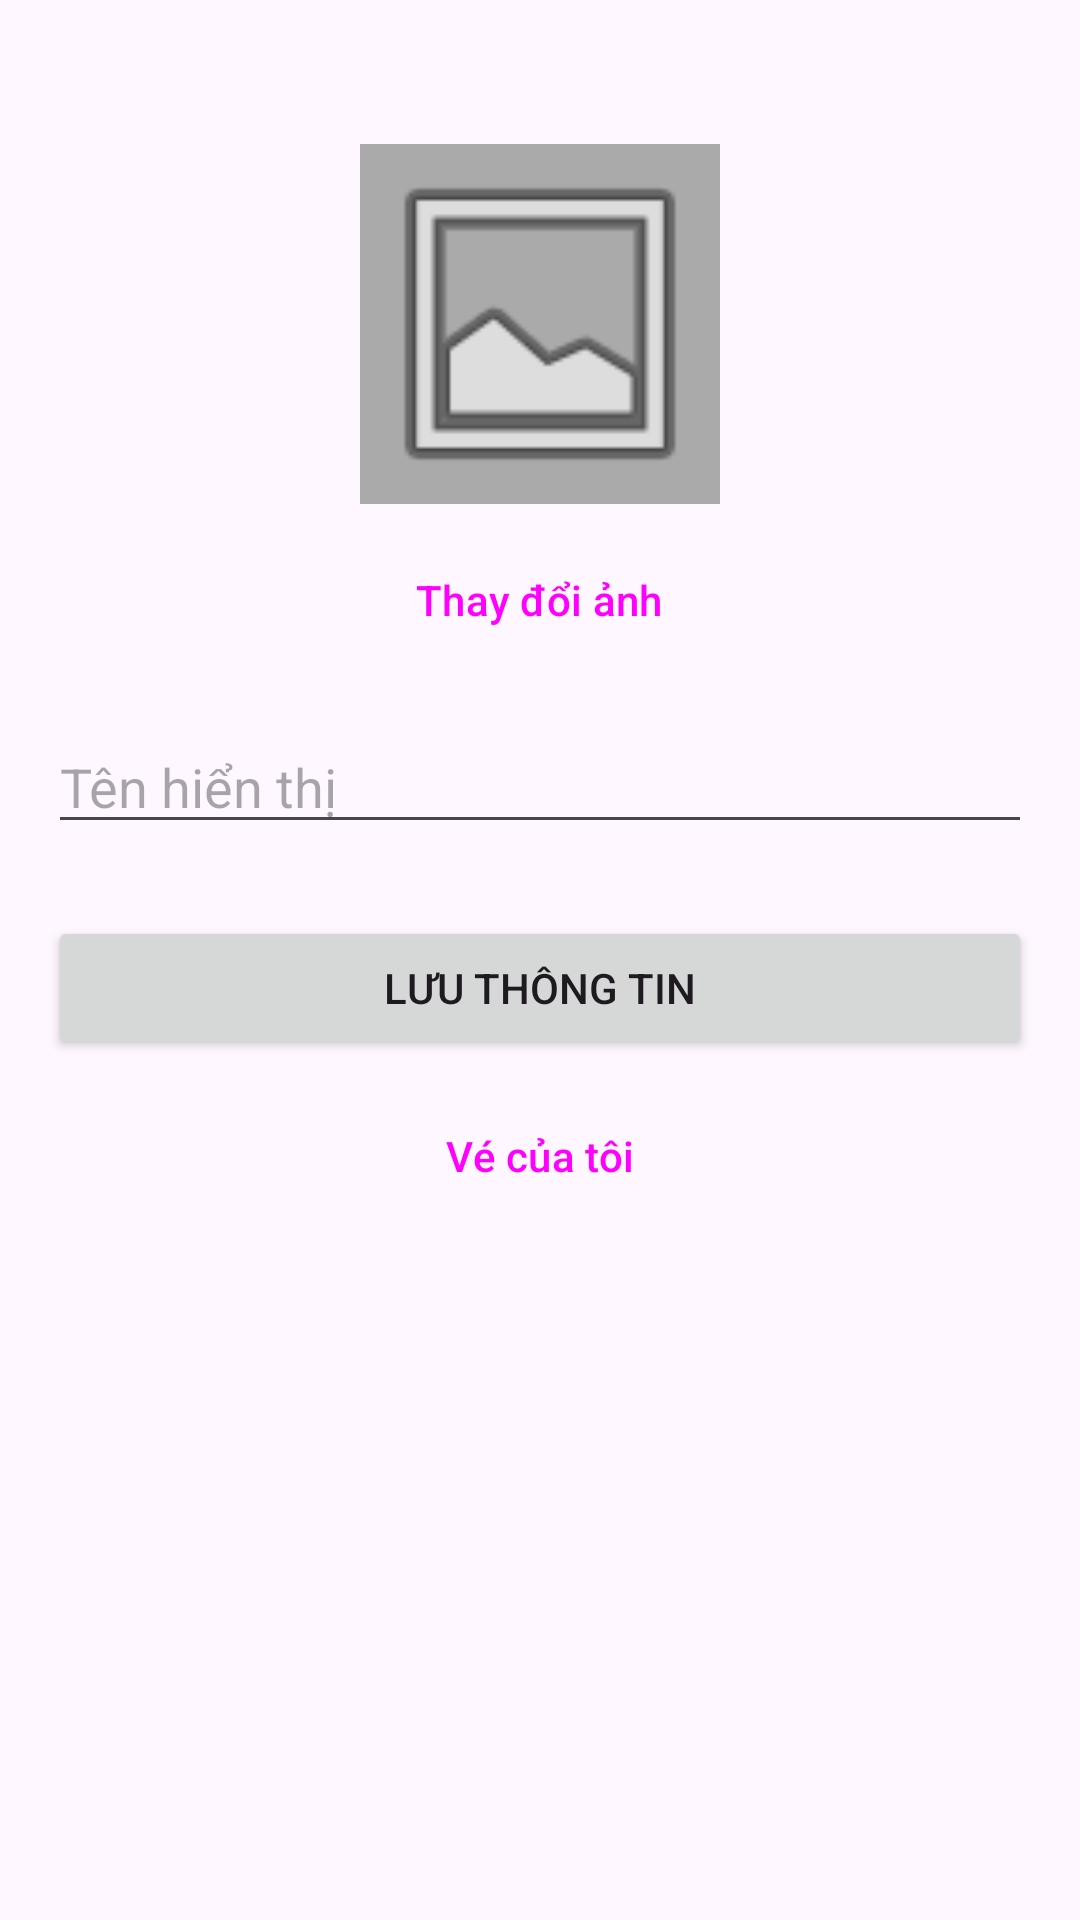

Named icons in this screenshot (1080x1920) and their bounding boxes, {"left": x1, "top": y1, "right": x2, "bottom": y2}:
gallery: {"left": 360, "top": 144, "right": 720, "bottom": 504}
